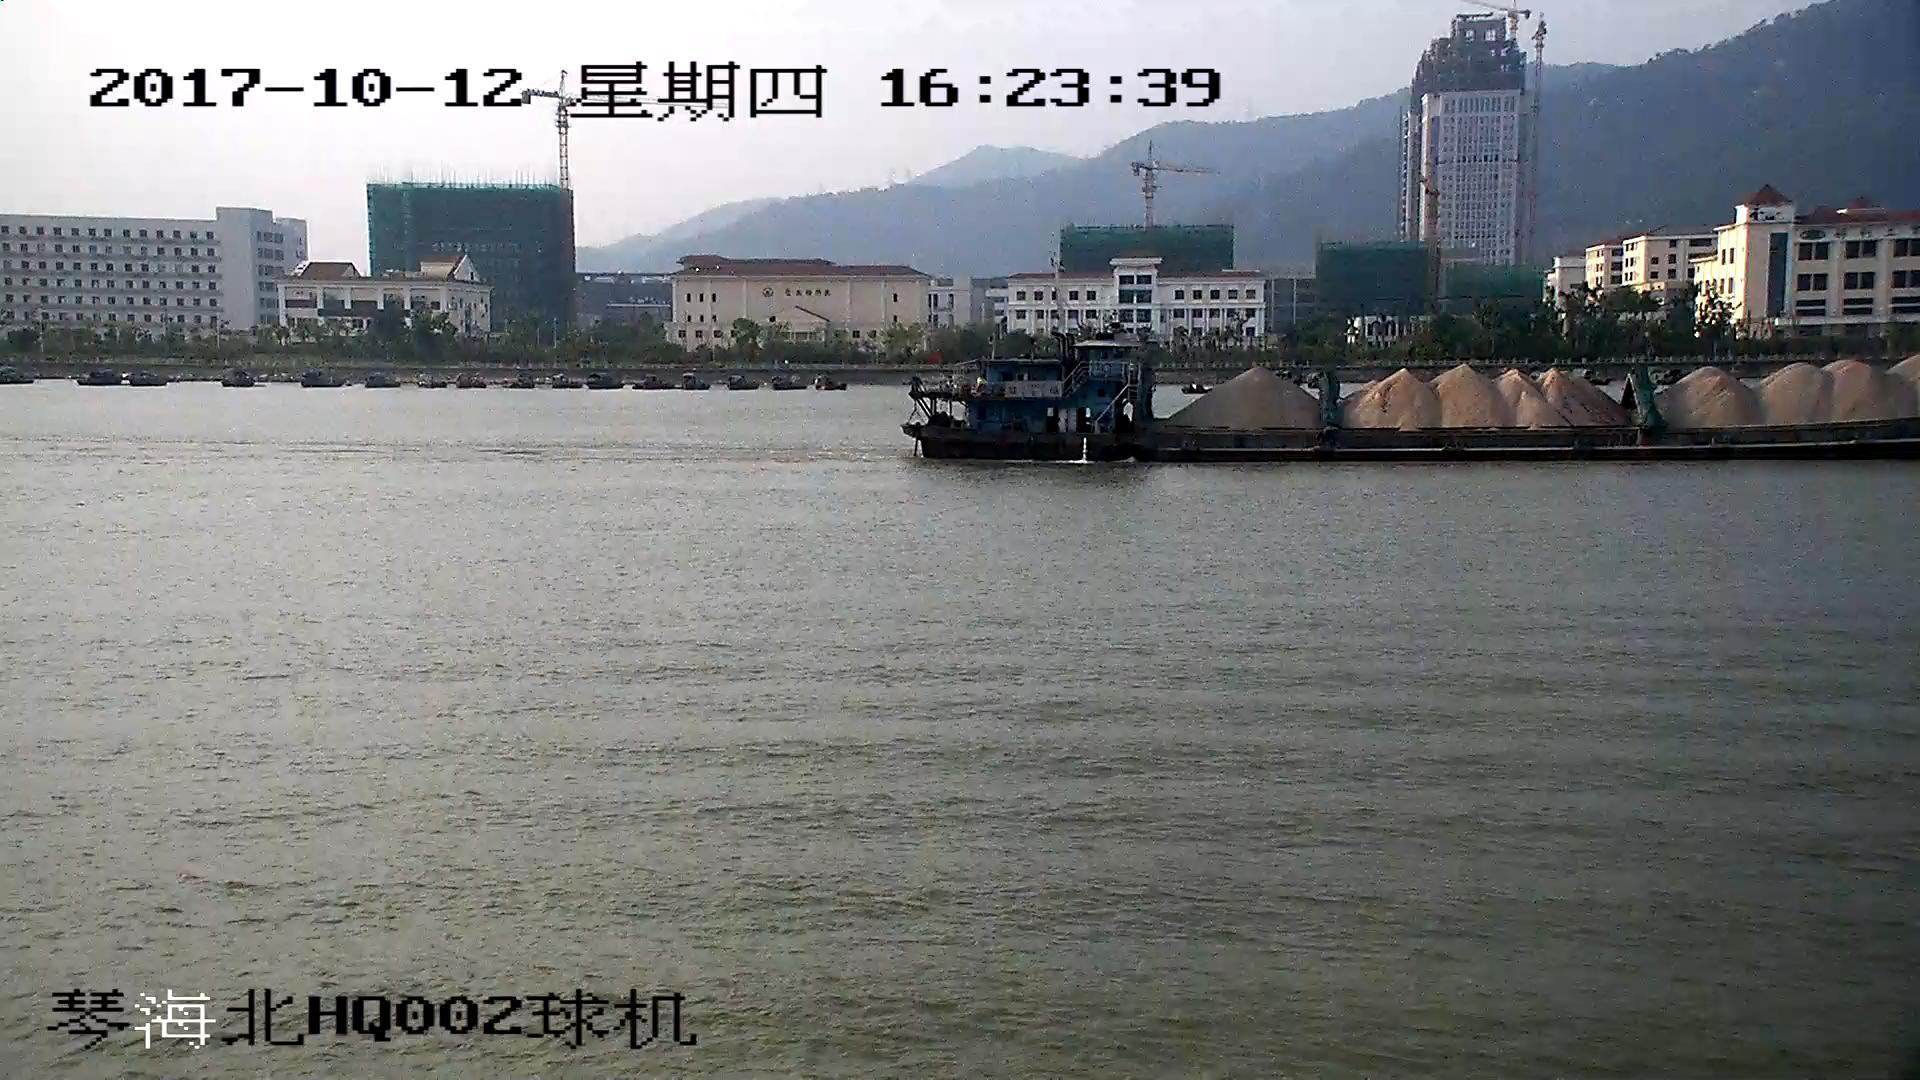Ship: (905, 335, 1920, 469)
